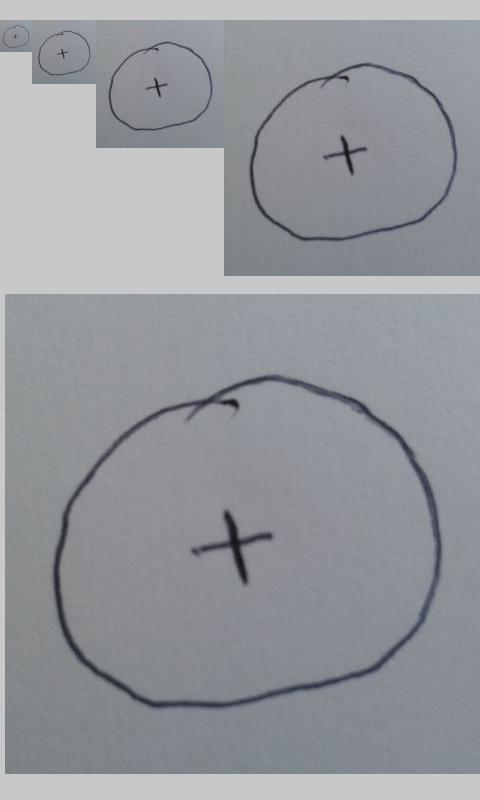button: (52, 373, 444, 709), (248, 61, 459, 243), (108, 41, 214, 132), (37, 30, 91, 76), (2, 24, 30, 49)
